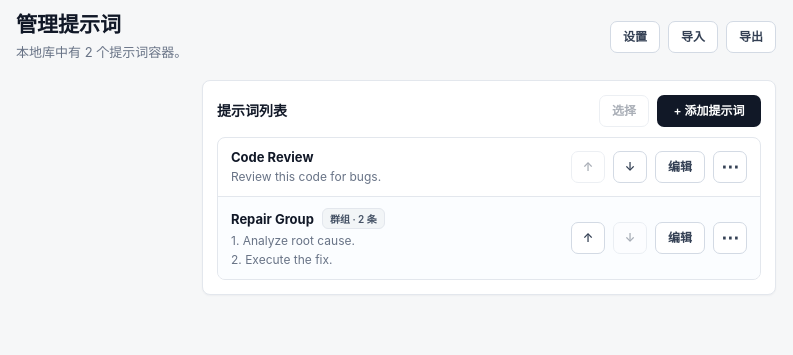
prompt manager › restores the previous order and reports reorder persistence failures
Click the button named "下移 Code Review" at (630, 167), box [613,151,647,183]
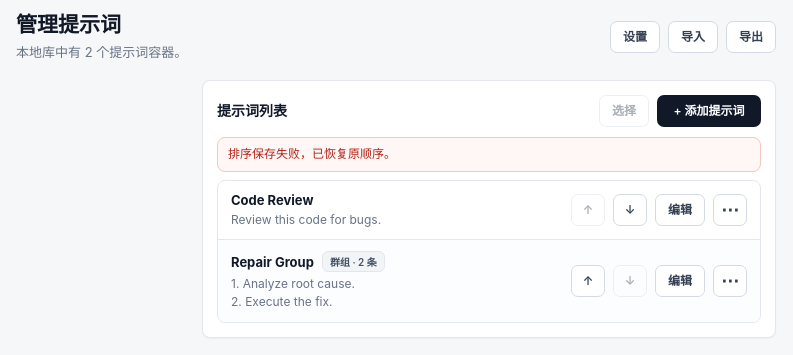
Expected: the list item "Code Review Review this code for bugs. ↑ ↓ 编辑 ⋯" is shown, [218,181,760,240]
Expected: the message shows "排序保存失败", [228,146,396,161]
